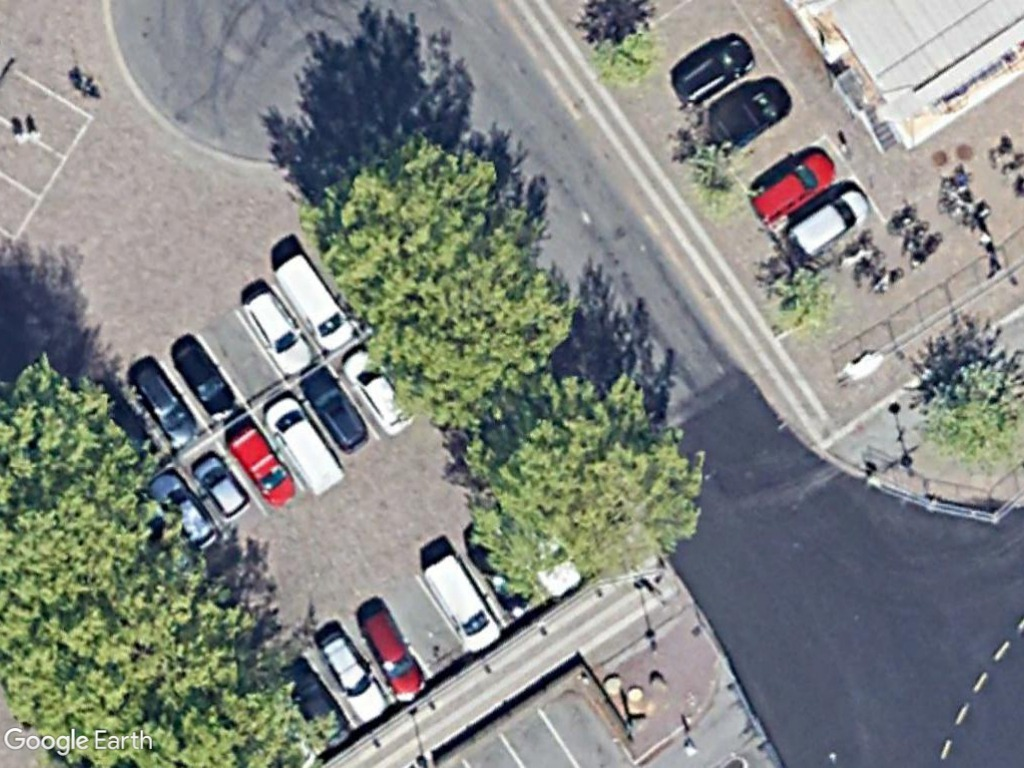car: (742, 140, 840, 230), (352, 604, 435, 709), (308, 624, 392, 727), (664, 30, 762, 116), (702, 71, 797, 157), (780, 183, 874, 266), (220, 419, 304, 511), (123, 358, 203, 454), (295, 359, 374, 454), (238, 289, 318, 379), (163, 338, 243, 424), (185, 445, 255, 522)
van: (266, 249, 364, 358), (256, 386, 348, 492), (417, 547, 504, 657)
